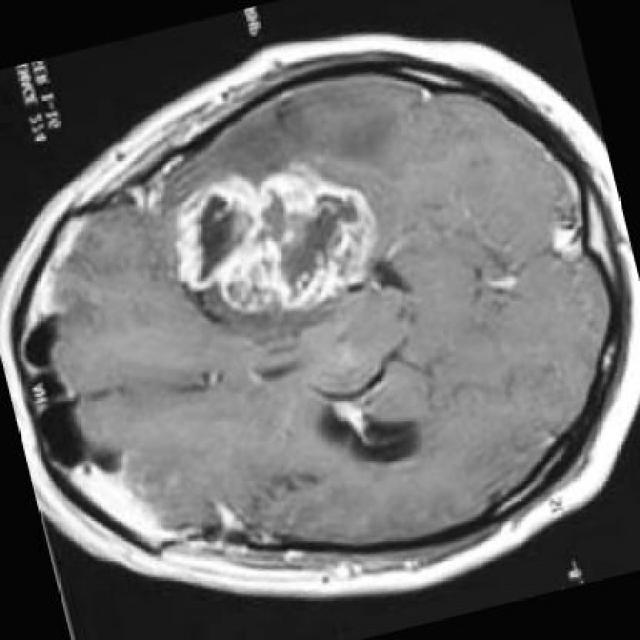Brain-Tumor: (160, 156, 410, 326)
